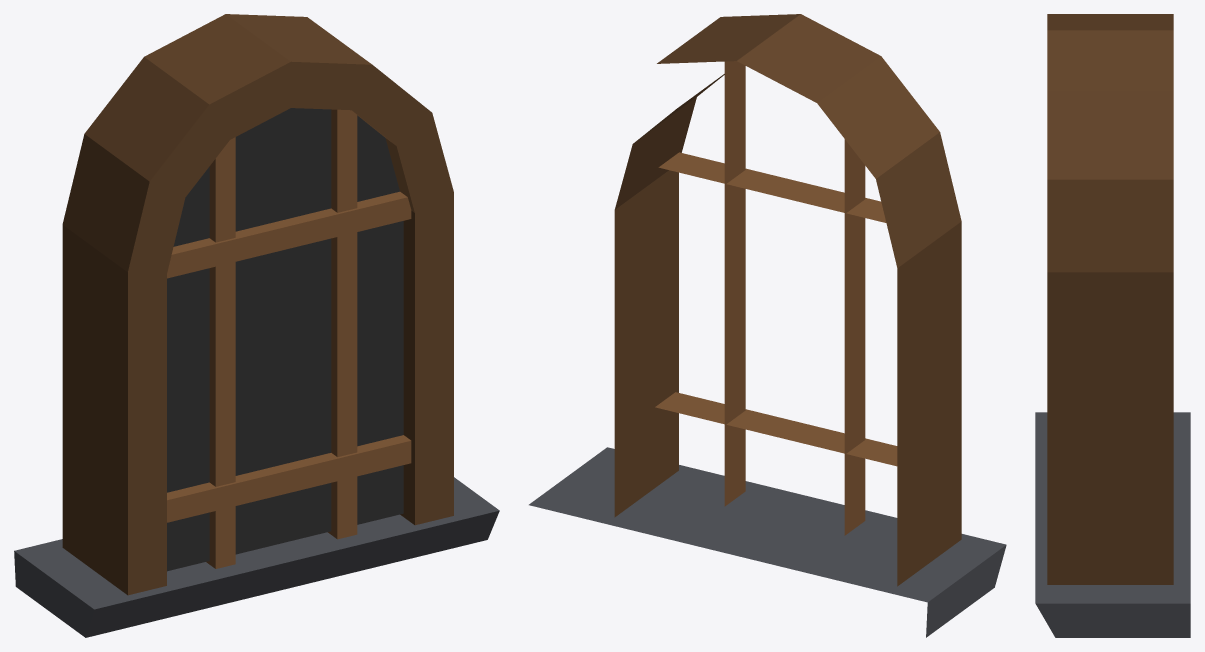
File: Window_4.gltf
3 views of the same model, side by side, from view 1: azimuth 30°, elevation 25°; view 2: azimuth 150°, elevation 25°; view 3: azimuth 270°, elevation 25° (orthographic). The views are drawn at different scales.
Visible parts, largest first — view 1: Window_4; view 2: Window_4; view 3: Window_4.
Boxes of the visible parts, box(x1,y1,x2,y2) form: Window_4: box(14, 14, 499, 637); Window_4: box(529, 14, 1006, 637); Window_4: box(1035, 14, 1190, 637).
Size of the model in its own units: 0.447 by 0.5585 by 0.1532.
